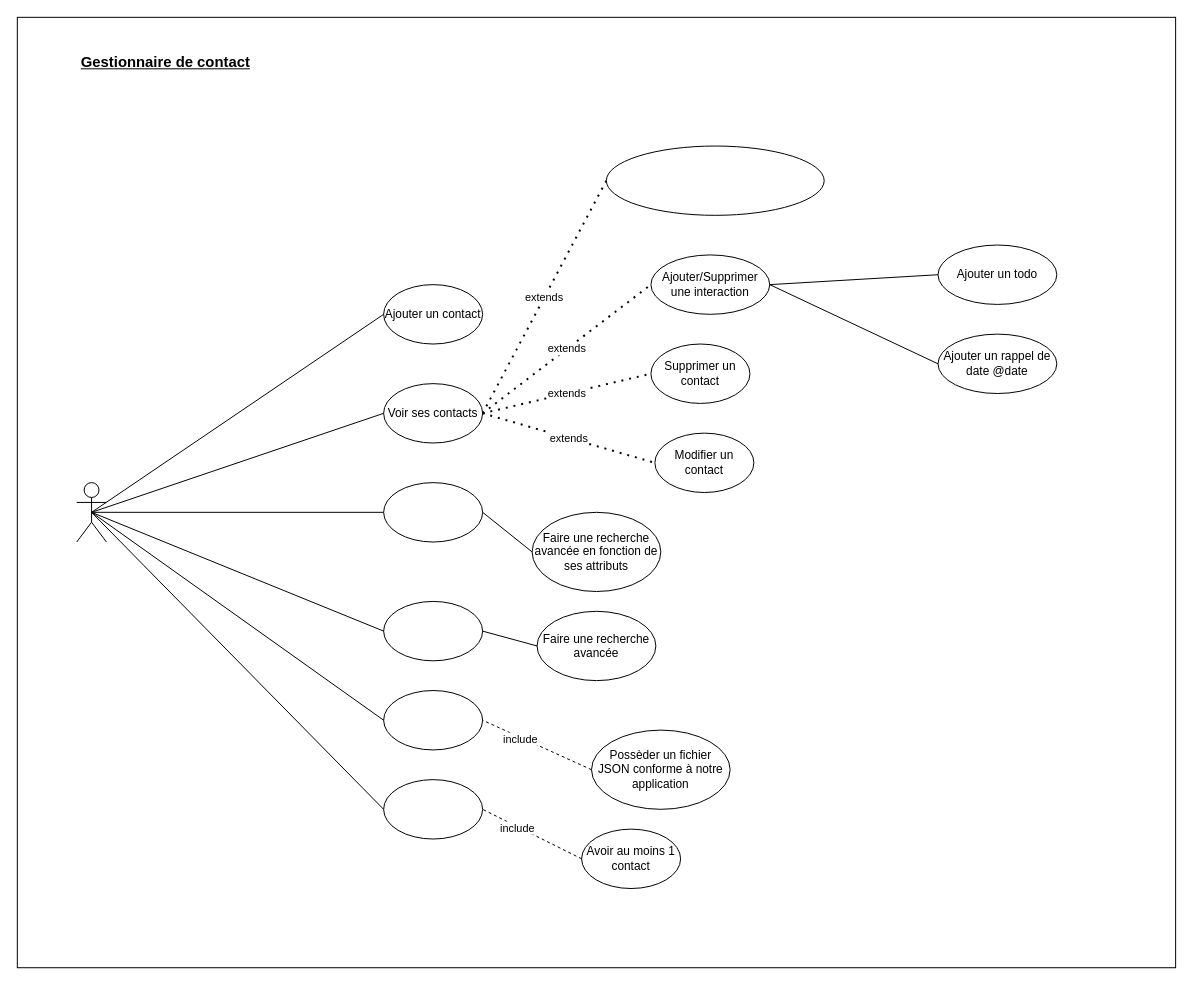
This 1193x985 diagram has some shape labels left out. The shapes that lost their labels are listed below. From the top down, each one's box as (x1, y1, x2, y2) in pixels, then its label:
(605, 145, 824, 215): Trier la liste de contact en fonction de plusieurs paramètre
(76, 482, 106, 542): Utilisateur
(383, 482, 483, 542): Rechercher un contact
(383, 600, 483, 661): Rechercher une tâche
(383, 690, 483, 750): Importer des contacts
(383, 779, 483, 839): Exporter ses contacts
